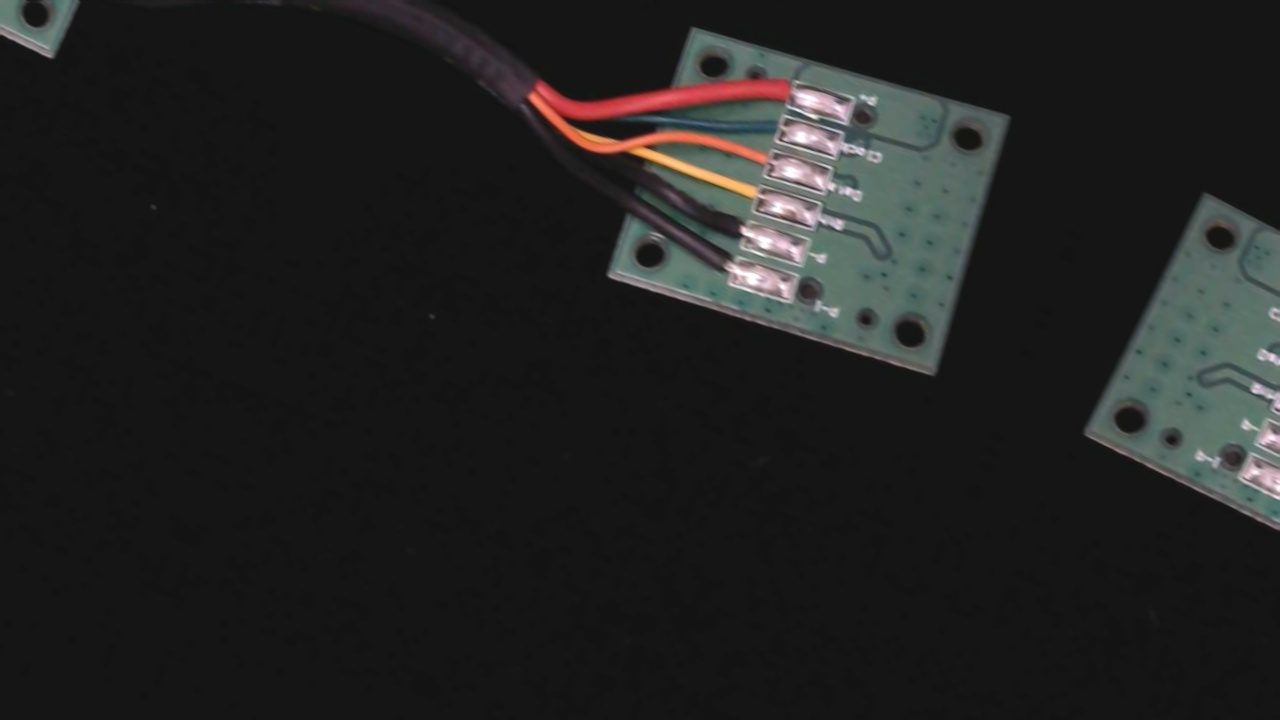Black: (696, 200, 766, 250)
Black1: (683, 235, 752, 288)
Green: (742, 98, 798, 150)
Orange: (727, 131, 788, 180)
Red: (757, 62, 812, 115)
Yellow: (713, 167, 778, 216)
